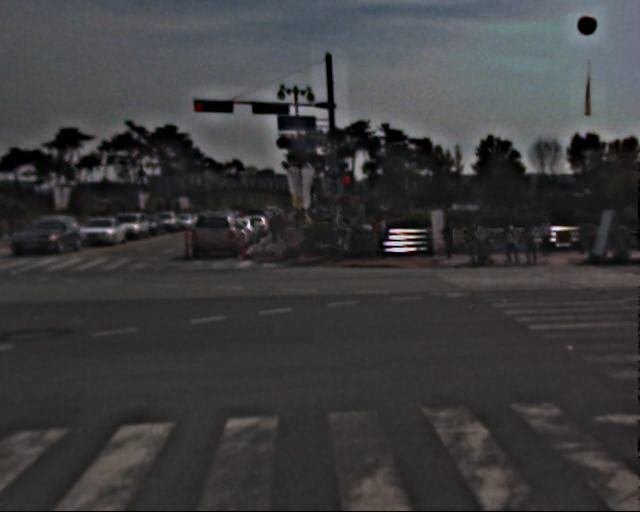person: (268, 208, 309, 245), (466, 216, 487, 267), (325, 213, 345, 262), (523, 219, 542, 266), (538, 213, 557, 259), (375, 215, 393, 260), (503, 223, 521, 268), (444, 217, 461, 259)
